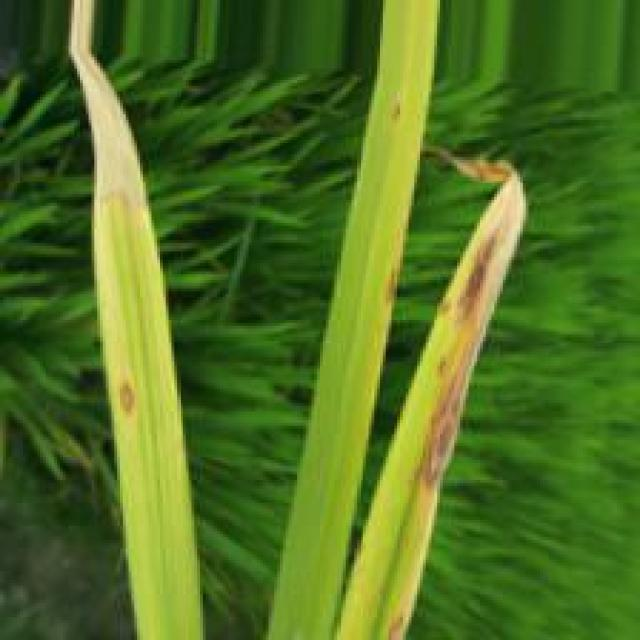Leaf_Scald: (385, 164, 526, 640), (68, 0, 146, 445)
